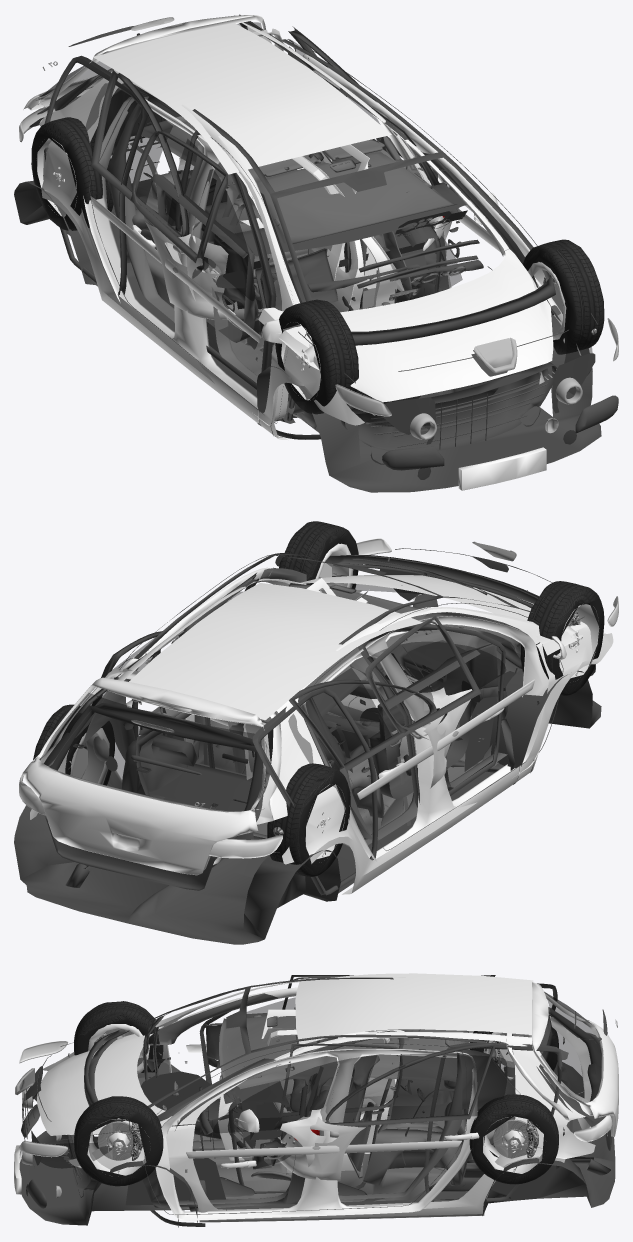
Rendered from car-307.glb.
3 renders of one model, top to bottom at view 1: azimuth 30°, elevation 25°; view 2: azimuth 150°, elevation 25°; view 3: azimuth 270°, elevation 25°, orthographic. The views are drawn at different scales.
Parts seen in each view (by area): view 1: Object_50, Object_81, Object_93, Object_51, Object_110, Object_22, Object_59, Object_89, Object_67, Object_31, Object_64, Object_60 (+23 smaller); view 2: Object_110, Object_81, Object_50, Object_60, Object_51, Object_93, Object_59, Object_31, Object_79, Object_89, Object_85, Object_61 (+15 smaller); view 3: Object_50, Object_110, Object_81, Object_93, Object_31, Object_59, Object_22, Object_29, Object_89, Object_61, Object_60, Object_92 (+29 smaller).
Boxes of the visible parts, x1,y1,x2,y2 form: Object_50: (37, 22, 580, 402); Object_81: (14, 130, 601, 492); Object_93: (31, 64, 604, 414); Object_51: (31, 28, 364, 440); Object_110: (36, 22, 592, 479); Object_22: (141, 116, 456, 243); Object_59: (83, 54, 529, 425); Object_89: (54, 39, 597, 437); Object_67: (239, 14, 557, 450); Object_31: (96, 46, 517, 428); Object_64: (68, 26, 595, 444); Object_60: (23, 15, 546, 490); Object_110: (40, 575, 538, 811); Object_81: (14, 624, 601, 944); Object_50: (30, 575, 582, 819); Object_60: (22, 677, 265, 875); Object_51: (40, 607, 613, 894); Object_93: (33, 521, 604, 876); Object_59: (107, 567, 548, 861); Object_31: (83, 604, 521, 846); Object_79: (44, 665, 595, 890); Object_89: (114, 553, 584, 854); Object_85: (370, 649, 480, 799); Object_61: (19, 538, 618, 858); Object_50: (37, 973, 595, 1222); Object_110: (26, 992, 603, 1195); Object_81: (19, 1011, 615, 1225); Object_93: (74, 1001, 558, 1186); Object_31: (137, 1049, 515, 1208); Object_59: (155, 987, 477, 1220); Object_22: (162, 1015, 468, 1125); Object_29: (159, 1053, 473, 1185); Object_89: (60, 977, 572, 1227); Object_61: (19, 1032, 612, 1158); Object_60: (14, 982, 618, 1194); Object_92: (125, 1071, 479, 1205).
Bounding box in the file's own units: 61713 × 43303 × 134623.
14 materials, 4 textured.
